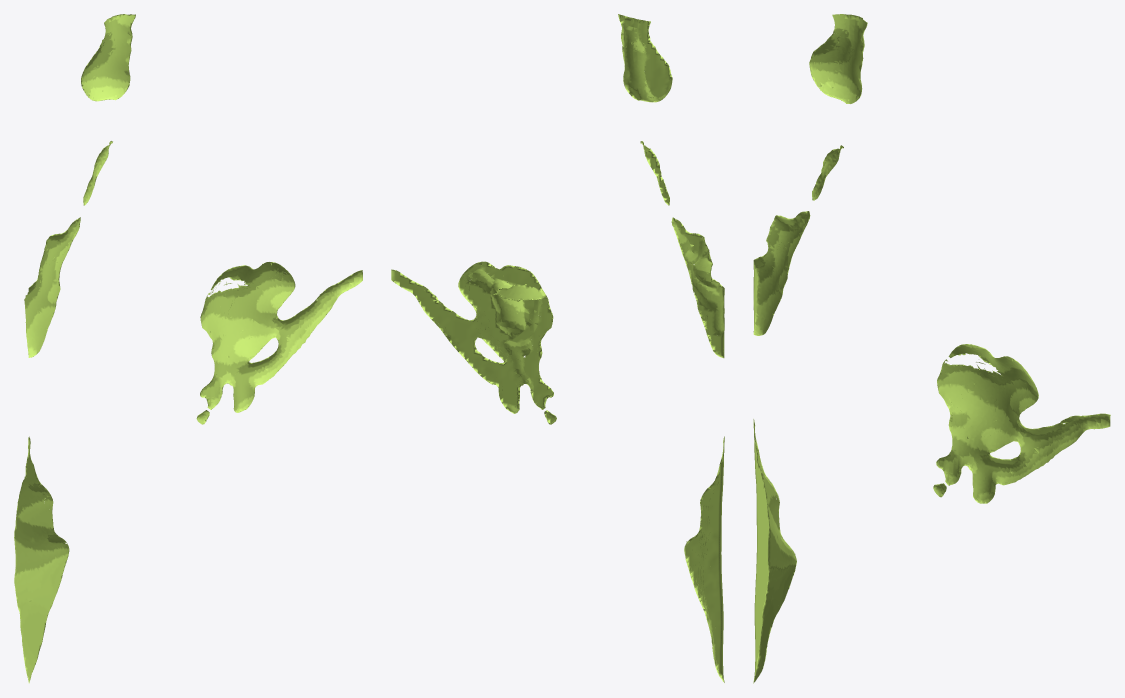
The picture shows the model from 3 angles, left to right: view 1: azimuth 30°, elevation 25°; view 2: azimuth 150°, elevation 25°; view 3: azimuth 330°, elevation 25°; orthographic projection. The views are drawn at different scales.
Visible parts, largest first — view 1: Switch_Switch_osgPicked_gmeGeoEntityGeode_Geometry_Geometry_ (×3), Switch_Switch_osgPicked_gmeGeoEntityGeode_Geometry_0; view 2: Switch_Switch_osgPicked_gmeGeoEntityGeode_Geometry_Geometry_ (×3), Switch_Switch_osgPicked_gmeGeoEntityGeode_Geometry_0; view 3: Switch_Switch_osgPicked_gmeGeoEntityGeode_Geometry_Geometry_ (×4), Switch_Switch_osgPicked_gmeGeoEntityGeode_Geometry_0.
Boxes of the visible parts, x1,y1,x2,y2 form: Switch_Switch_osgPicked_gmeGeoEntityGeode_Geometry_Geometry_ (×3): [24, 14, 362, 412]; Switch_Switch_osgPicked_gmeGeoEntityGeode_Geometry_0: [14, 436, 69, 683]; Switch_Switch_osgPicked_gmeGeoEntityGeode_Geometry_Geometry_ (×3): [391, 14, 724, 413]; Switch_Switch_osgPicked_gmeGeoEntityGeode_Geometry_0: [684, 436, 724, 682]; Switch_Switch_osgPicked_gmeGeoEntityGeode_Geometry_Geometry_ (×4): [753, 14, 1110, 503]; Switch_Switch_osgPicked_gmeGeoEntityGeode_Geometry_0: [753, 419, 796, 683].
Size of what is drawn, in the model's own units: 38517 by 71002 by 3136.
